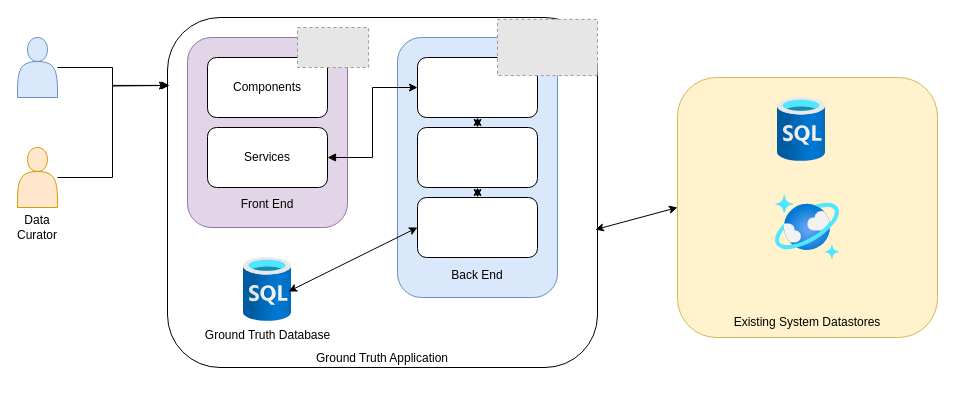
This 955x395 diagram has some shape labels left out. Grey dashed boxes stand in for pictures. Each missing label, with the centre of its shape:
Ground Truth API: the point at 477,87
Ground Truth Core: the point at 477,157
Ground Truth Infrastructure: the point at 477,227
SME: the point at 37,67
